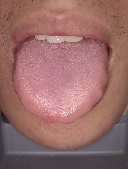tongue: (10, 45, 108, 125)
